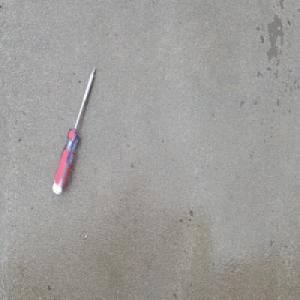Screwdriver: (50, 63, 97, 196)
